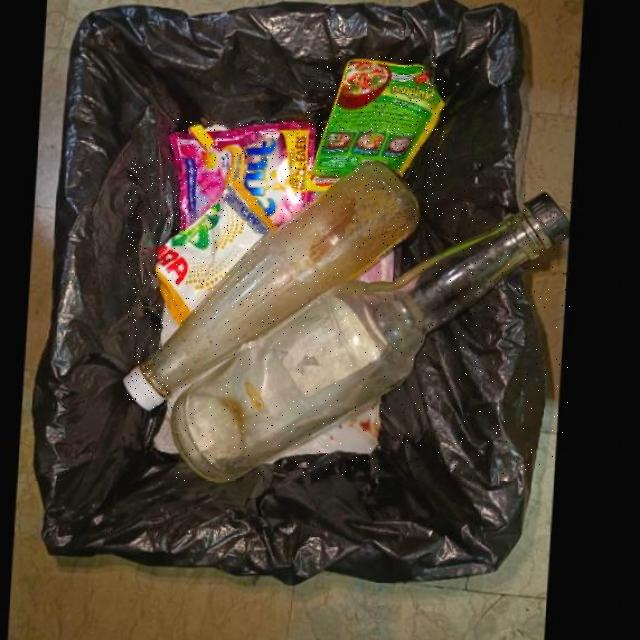glass: (173, 189, 572, 481), (127, 158, 422, 408)
wrapper: (306, 57, 446, 189), (157, 178, 278, 324), (170, 119, 316, 230)
